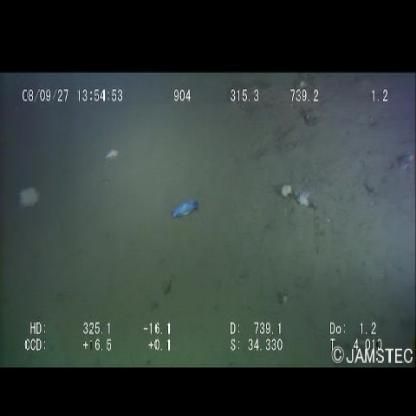Rác: (168, 192, 204, 228)
